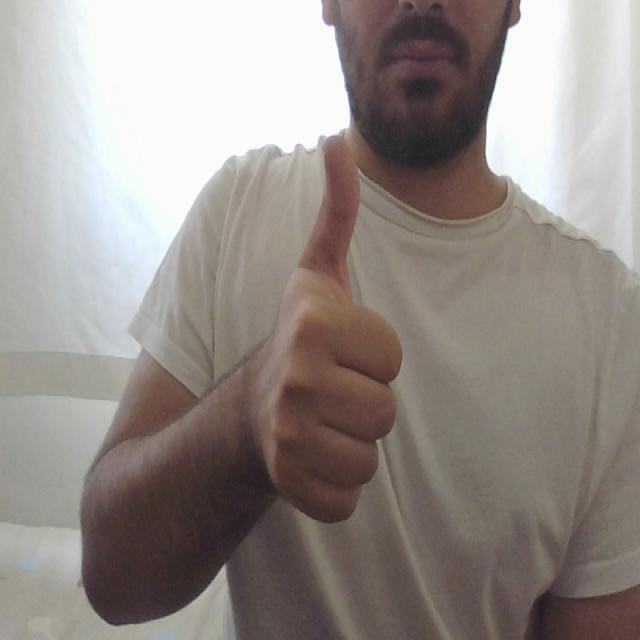Tamam: (241, 128, 406, 539)
